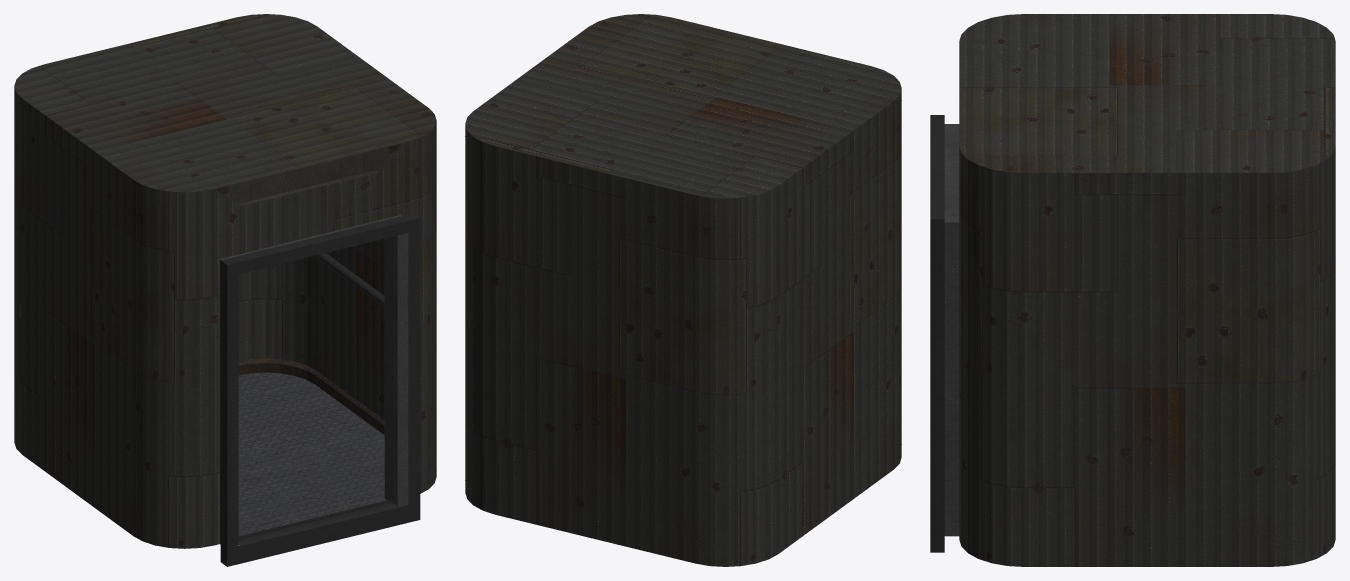
The model's file is elevator_1.fbx.
The picture shows the model from 3 angles, left to right: view 1: azimuth 30°, elevation 25°; view 2: azimuth 150°, elevation 25°; view 3: azimuth 270°, elevation 25°; orthographic projection. The views are drawn at different scales.
Visible parts, largest first — view 1: elevator_1; view 2: elevator_1; view 3: elevator_1.
Boxes of the visible parts, x1,y1,x2,y2 form: elevator_1: [14, 14, 436, 566]; elevator_1: [465, 14, 901, 566]; elevator_1: [930, 14, 1335, 566].
Size of the model in its own units: 260 by 310 by 280.
